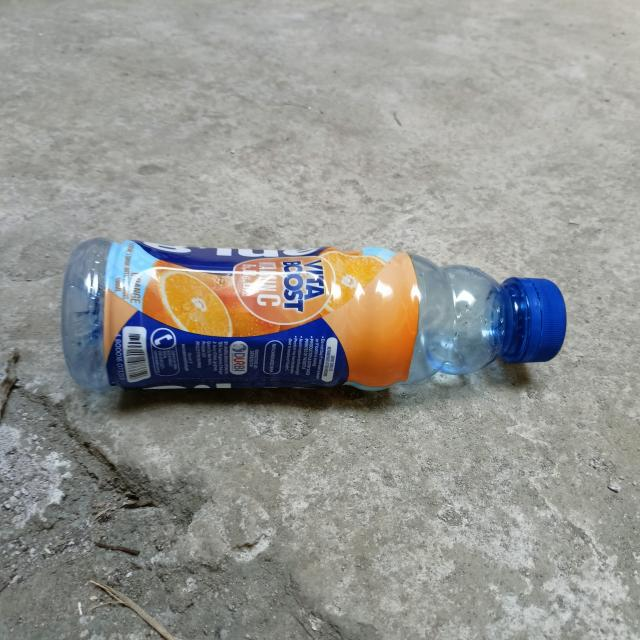Bottle: (62, 238, 566, 390)
